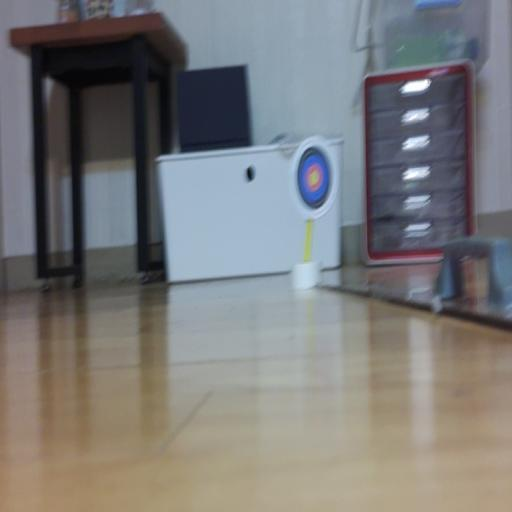target: (292, 137, 340, 220)
